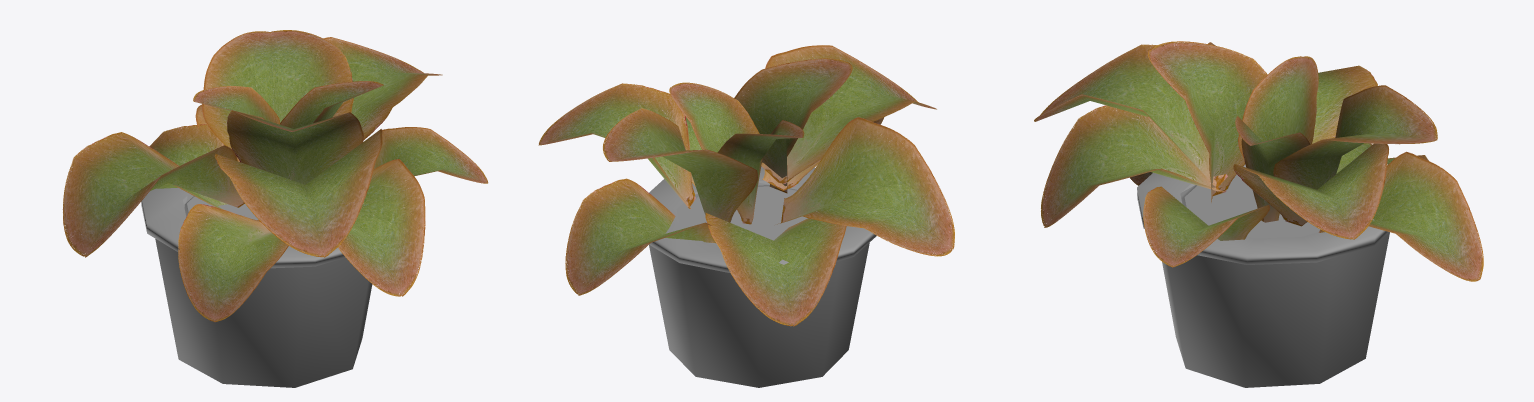
File: Kalanchoe_leaf_lod1.fbx
3 views of the same model, side by side, from view 1: azimuth 30°, elevation 25°; view 2: azimuth 150°, elevation 25°; view 3: azimuth 270°, elevation 25° (orthographic). The views are drawn at different scales.
Parts seen in each view (by area): view 1: Kalanchoe_leaf_lod1; view 2: Kalanchoe_leaf_lod1; view 3: Kalanchoe_leaf_lod1.
Boxes of the visible parts, bbox=[...] form: Kalanchoe_leaf_lod1: bbox=[62, 30, 488, 387]; Kalanchoe_leaf_lod1: bbox=[538, 45, 954, 387]; Kalanchoe_leaf_lod1: bbox=[1034, 41, 1483, 387].
Size of the model in its own units: 52.19 by 35.17 by 54.26.
2 materials, 1 textured.
